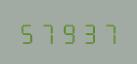five: (18, 20, 37, 44)
nine: (58, 20, 77, 44)
seven: (38, 20, 57, 44), (98, 20, 117, 44)
three: (78, 20, 97, 44)
